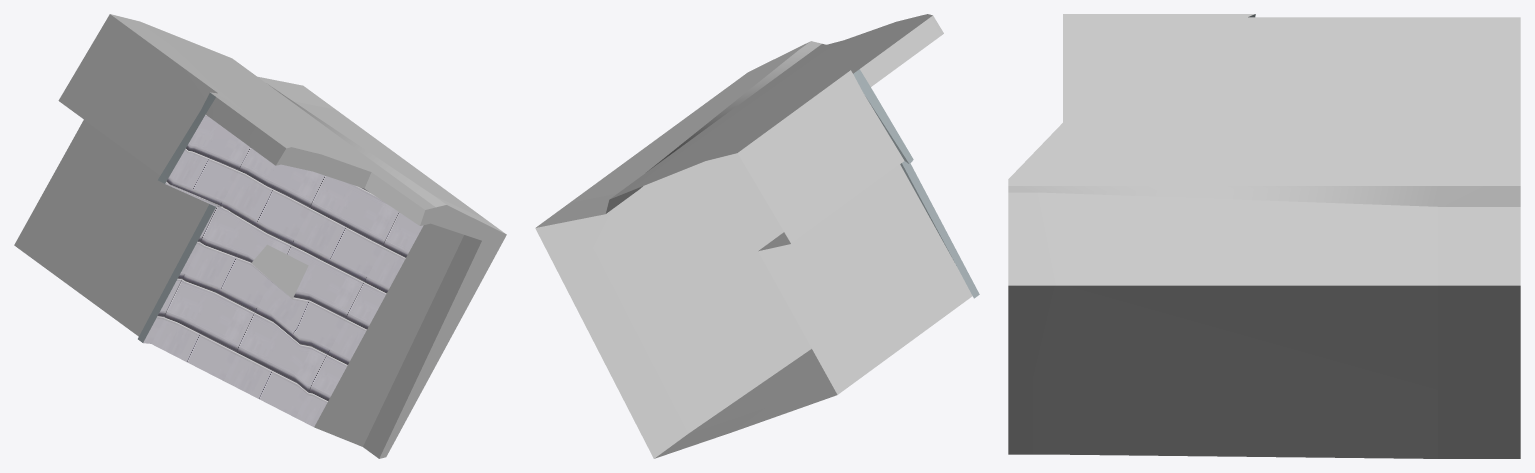
File: Lai_40_2-origo.obj
3 renders of one model, left to right at view 1: azimuth 30°, elevation 25°; view 2: azimuth 150°, elevation 25°; view 3: azimuth 270°, elevation 25°, orthographic. The views are drawn at different scales.
Visible parts, largest first — view 1: Lai_40_2; view 2: Lai_40_2; view 3: Lai_40_2.
Boxes of the visible parts, x1,y1,x2,y2 form: Lai_40_2: [14, 14, 506, 458]; Lai_40_2: [535, 14, 979, 458]; Lai_40_2: [1008, 14, 1520, 458].
Bounding box in the file's own units: 10.31 × 10.5 × 12.42.
